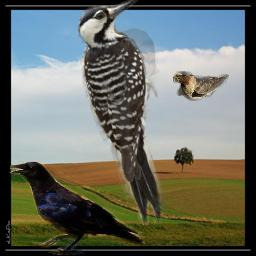Crow: (10, 161, 145, 255)
Swallow: (173, 71, 229, 101)
Woodpecker: (78, 0, 164, 225)
